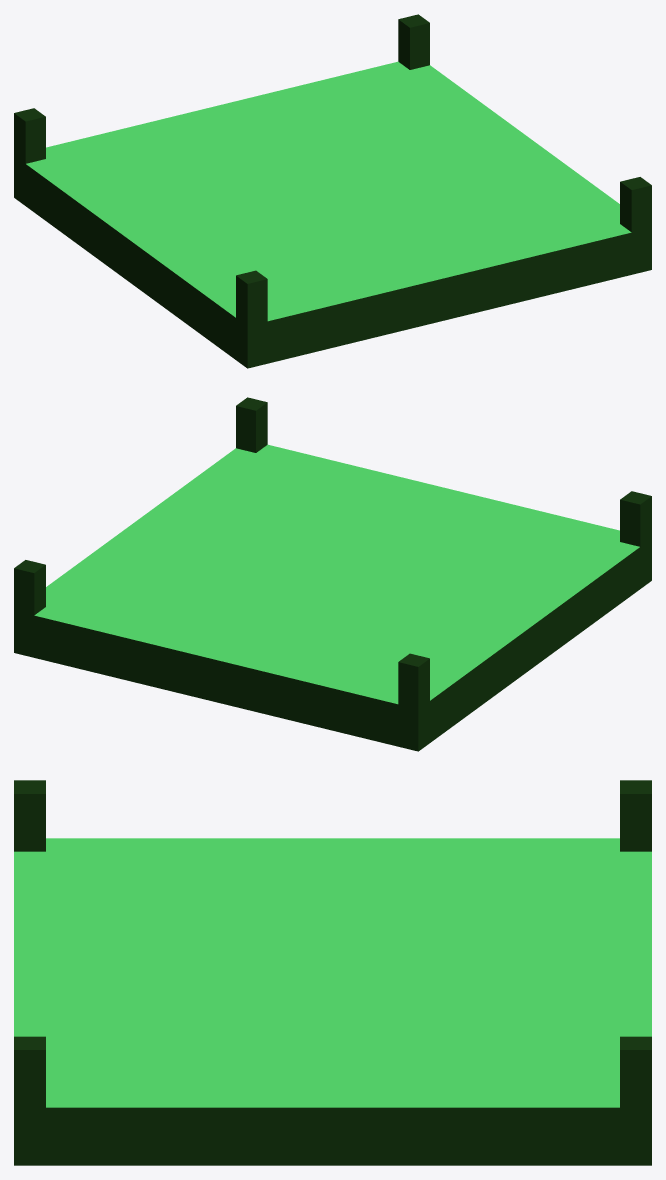
File: MG Intersection.fbx
3 views of the same model, one above another, from view 1: azimuth 30°, elevation 25°; view 2: azimuth 150°, elevation 25°; view 3: azimuth 270°, elevation 25° (orthographic). The views are drawn at different scales.
Visible parts, largest first — view 1: MG Intersection; view 2: MG Intersection; view 3: MG Intersection.
Boxes of the visible parts, x1,y1,x2,y2 form: MG Intersection: (14, 14, 651, 368); MG Intersection: (14, 397, 651, 751); MG Intersection: (14, 780, 651, 1165).
Bounding box in the file's own units: 200 × 40 × 200.
